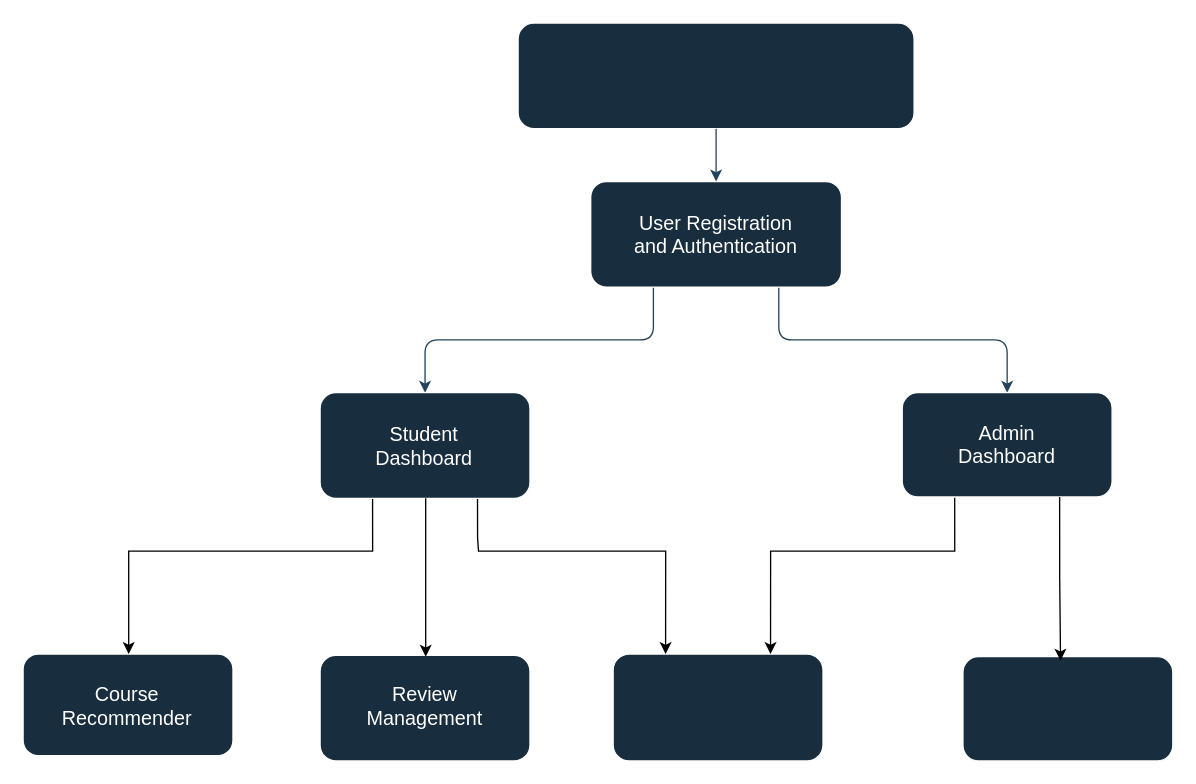
This 1196x784 diagram has some shape labels left out. The centre of each missing label's shape, as x and y in pixels:
Course Management: point (1067, 708)
Course Recommender System: point (715, 75)
Enrollment Management: point (717, 707)
